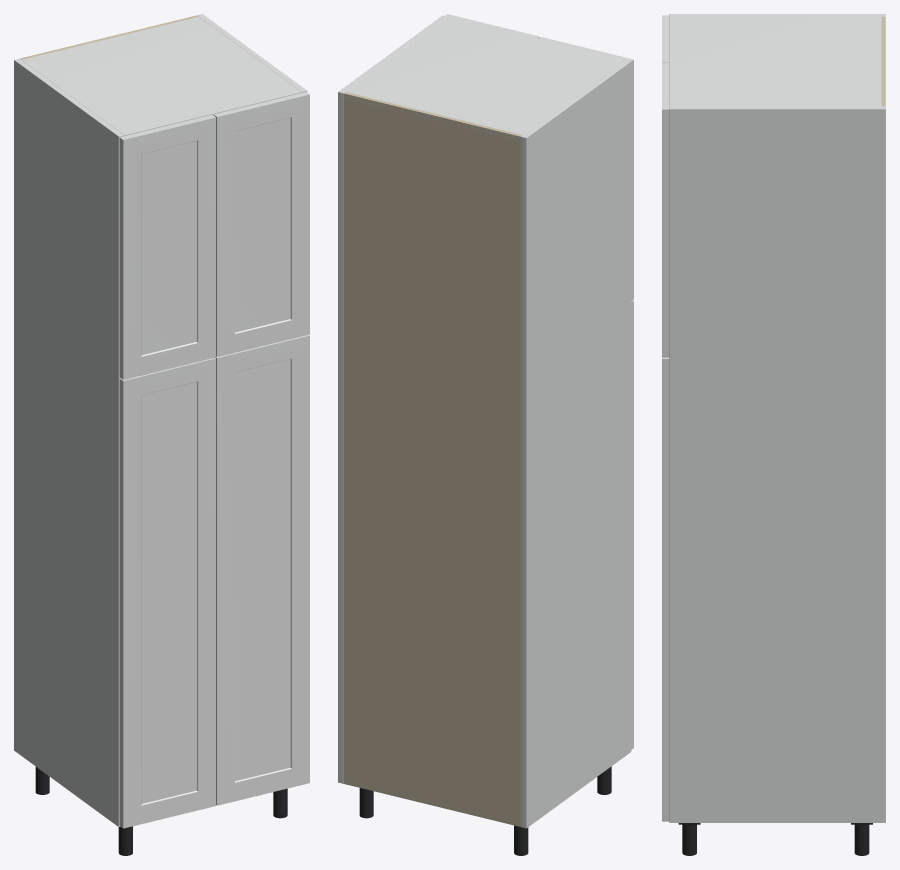
The model's file is PLY-WSS-PC2484.glb.
3 views of the same model, side by side, from view 1: azimuth 30°, elevation 25°; view 2: azimuth 150°, elevation 25°; view 3: azimuth 270°, elevation 25° (orthographic). The views are drawn at different scales.
Visible parts, largest first — view 1: Carcass left, Shaker door, Shaker door.001, Shaker door.002, Shaker door.003, Carcass top, Carcass right; view 2: Carcass back, Carcass left, Carcass top, Carcass right, Shaker door, Shaker door.002, Carcass bottom; view 3: Carcass right, Carcass top, Shaker door.001, Shaker door.003, Carcass left, Adjustable foot.002, Adjustable foot.003, Carcass back.
Part boxes in pixels (bbox=[...]): Carcass left: bbox=[14, 58, 124, 826]; Shaker door: bbox=[119, 357, 215, 828]; Shaker door.001: bbox=[215, 334, 309, 805]; Shaker door.002: bbox=[119, 114, 215, 379]; Shaker door.003: bbox=[213, 92, 309, 356]; Carcass top: bbox=[20, 16, 301, 135]; Carcass right: bbox=[197, 14, 307, 92]; Carcass back: bbox=[343, 92, 522, 826]; Carcass left: bbox=[521, 60, 631, 828]; Carcass top: bbox=[344, 17, 625, 141]; Carcass right: bbox=[338, 15, 447, 783]; Shaker door: bbox=[631, 300, 633, 749]; Shaker door.002: bbox=[539, 37, 633, 300]; Carcass bottom: bbox=[343, 778, 520, 825]; Carcass right: bbox=[669, 106, 885, 822]; Carcass top: bbox=[669, 16, 885, 106]; Shaker door.001: bbox=[662, 357, 669, 821]; Shaker door.003: bbox=[662, 62, 669, 357]; Carcass left: bbox=[669, 14, 885, 16]; Adjustable foot.002: bbox=[854, 824, 869, 855]; Adjustable foot.003: bbox=[682, 824, 696, 855]; Carcass back: bbox=[881, 16, 885, 106].
Bounding box in the file's own units: 0.6096 × 2.25 × 0.6064.
